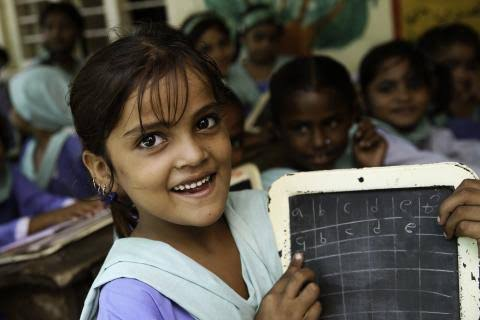student: (69, 43, 250, 230), (265, 69, 360, 167), (354, 50, 431, 125)
